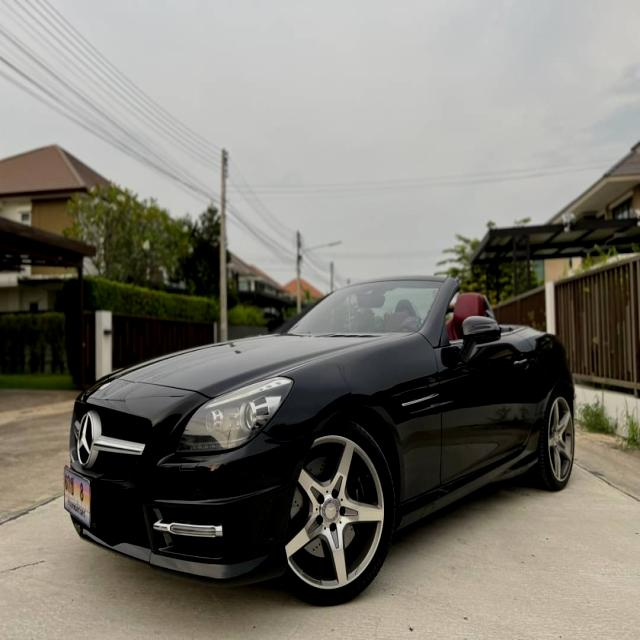license_plate: (49, 466, 106, 536)
